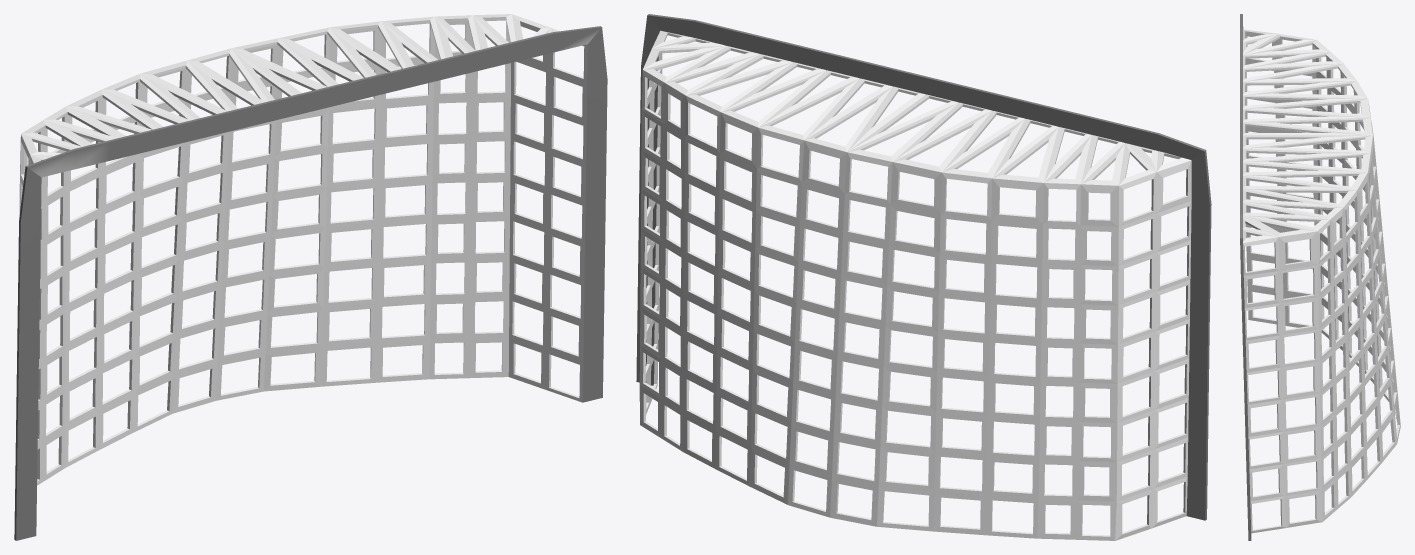
Rendered from Goal_2.fbx.
3 renders of one model, left to right at view 1: azimuth 30°, elevation 25°; view 2: azimuth 150°, elevation 25°; view 3: azimuth 270°, elevation 25°, orthographic. The views are drawn at different scales.
Visible parts, largest first — view 1: Goal_2; view 2: Goal_2; view 3: Goal_2.
Boxes of the visible parts, x1,y1,x2,y2 form: Goal_2: [14, 14, 607, 540]; Goal_2: [636, 14, 1211, 540]; Goal_2: [1240, 14, 1400, 540].
Size of the model in its own units: 196 by 122 by 58.3.
